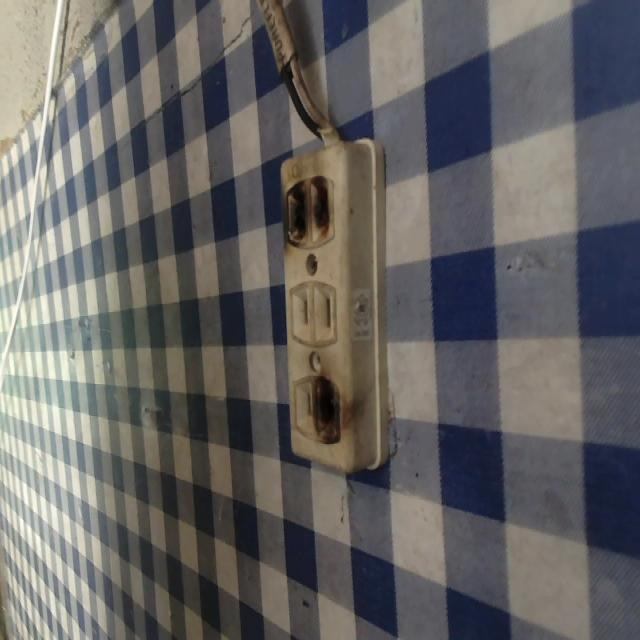-: (278, 176, 342, 256), (308, 371, 353, 453)
